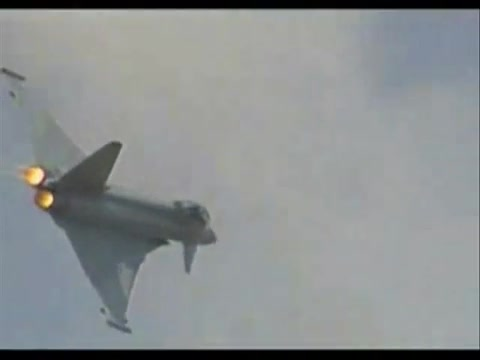aeroplane: (4, 68, 220, 336)
